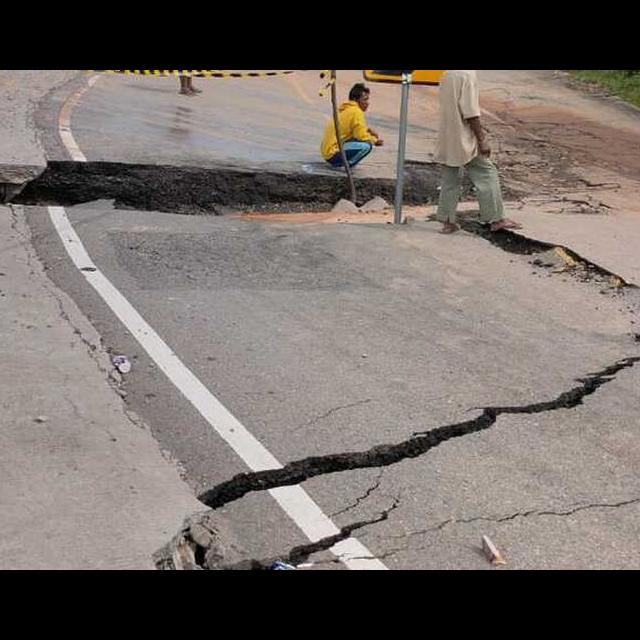lubang_kecil: (0, 152, 335, 243)
retak_memanjang: (110, 373, 640, 565), (408, 227, 640, 435)
